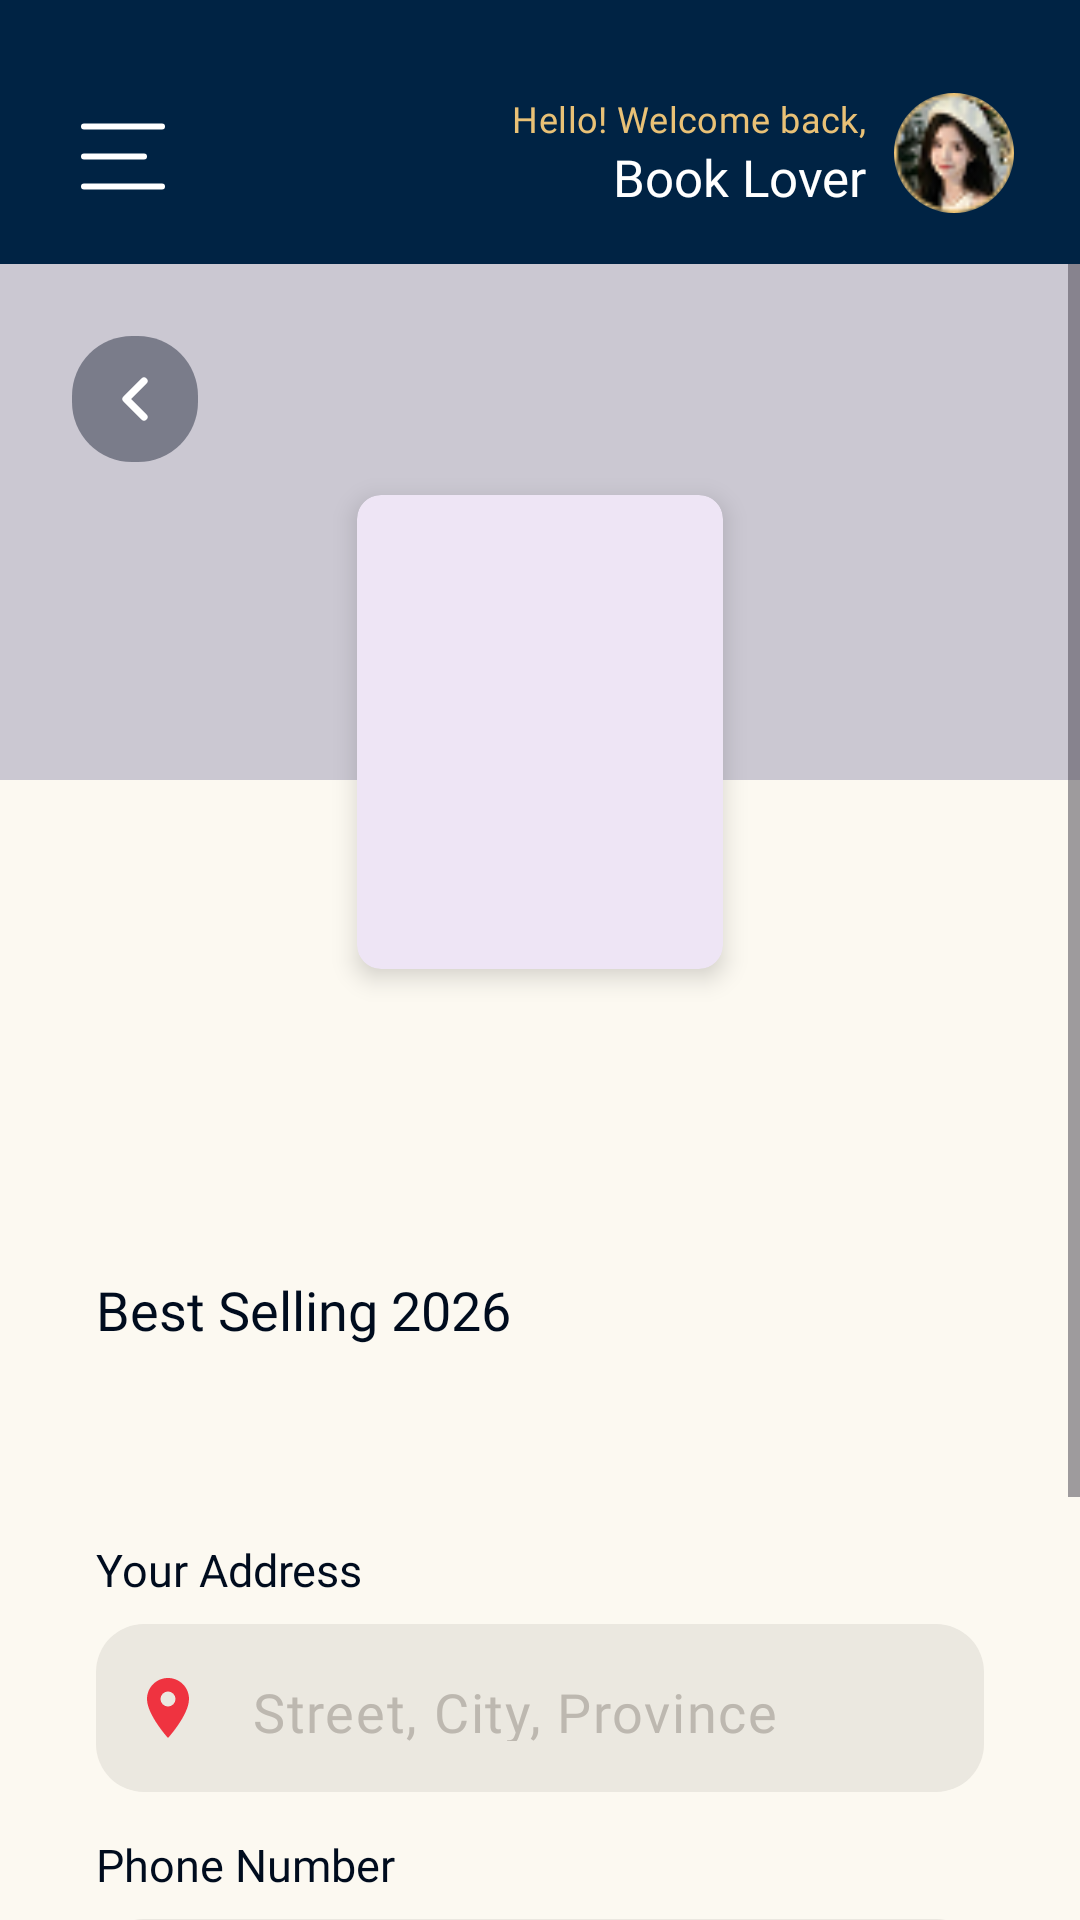

Screen size 1080x1920. Icon name, then its box in pixels as box(x1, y1, x2, y2):
Back: box(72, 336, 198, 462)
Open menu: box(81, 123, 165, 190)
Profile: box(894, 93, 1014, 213)
